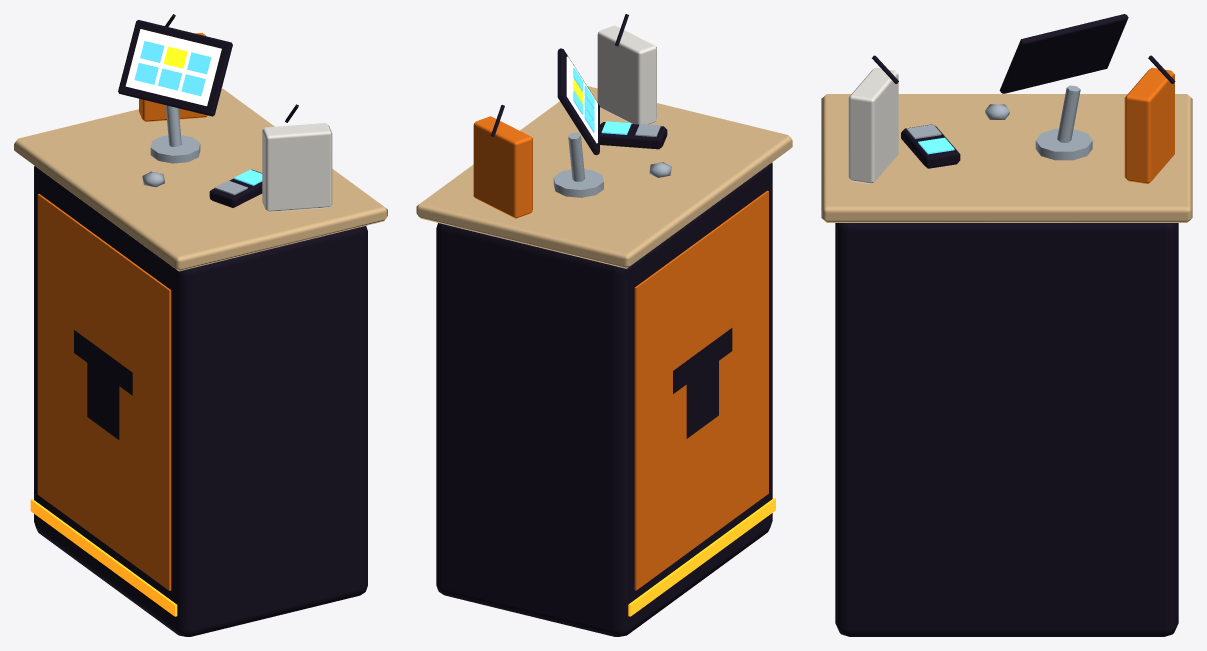
Rendered from station_special_ausstattung_2_3.glb.
The picture shows the model from 3 angles, left to right: view 1: azimuth 30°, elevation 25°; view 2: azimuth 150°, elevation 25°; view 3: azimuth 270°, elevation 25°; orthographic projection. The views are drawn at different scales.
Visible parts, largest first — view 1: station_special_ausstattung_2_3; view 2: station_special_ausstattung_2_3; view 3: station_special_ausstattung_2_3.
Part boxes in pixels (box(x1,y1,x2,y2)): station_special_ausstattung_2_3: box(14, 14, 387, 636); station_special_ausstattung_2_3: box(416, 14, 792, 636); station_special_ausstattung_2_3: box(821, 14, 1192, 636).
Size of the model in its own units: 0.58 by 1.32 by 0.78.
